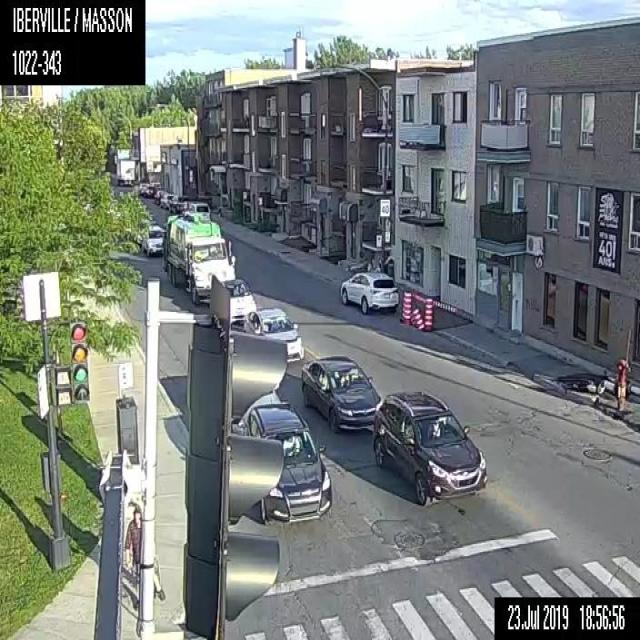construction: (556, 358, 628, 398), (399, 288, 412, 326), (423, 296, 432, 332), (411, 306, 423, 332)
pedestrian: (123, 508, 140, 605)
vehicle: (372, 390, 486, 502), (239, 396, 330, 522), (302, 350, 383, 434), (162, 214, 237, 304), (241, 302, 301, 362), (338, 268, 399, 313), (217, 280, 255, 328), (141, 221, 166, 257), (114, 156, 135, 187), (181, 201, 210, 218), (169, 194, 187, 212), (160, 191, 173, 207), (154, 188, 164, 204)
